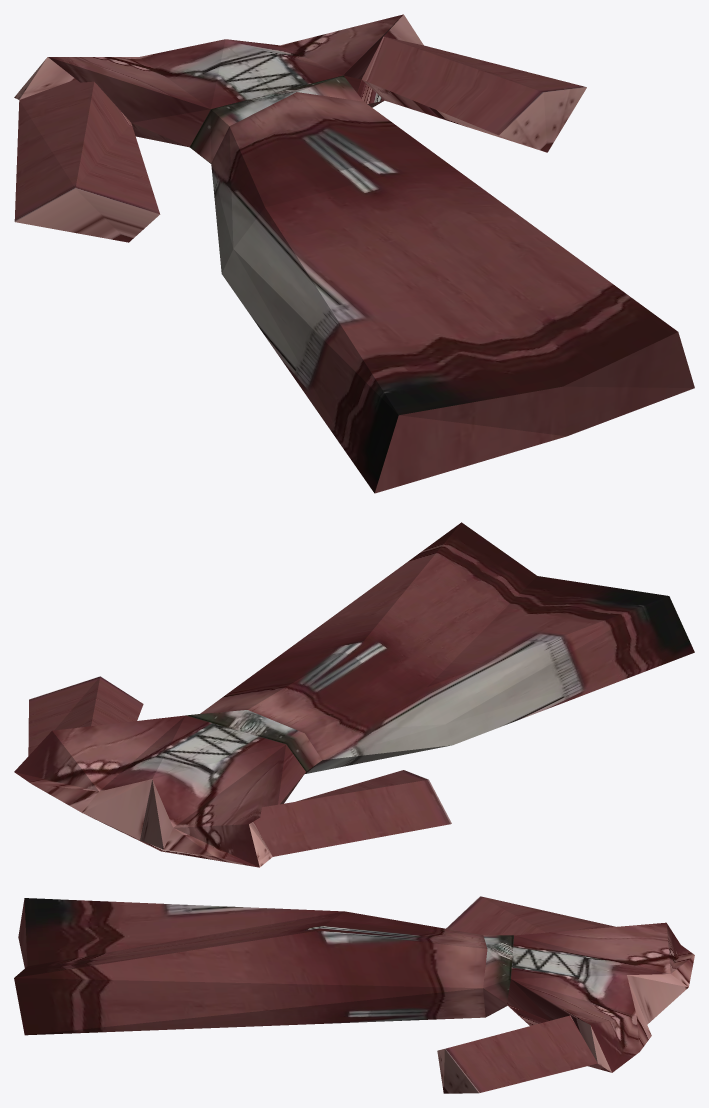
Rendered from SZYKOWNA_SUKNIA.glb.
3 renders of one model, top to bottom at view 1: azimuth 30°, elevation 25°; view 2: azimuth 150°, elevation 25°; view 3: azimuth 270°, elevation 25°, orthographic. The views are drawn at different scales.
Parts seen in each view (by area): view 1: SZYKOWNA_SUKNIA; view 2: SZYKOWNA_SUKNIA; view 3: SZYKOWNA_SUKNIA.
Part boxes in pixels (x1,y1,x2,y2): SZYKOWNA_SUKNIA: (14, 14, 694, 493); SZYKOWNA_SUKNIA: (14, 522, 694, 867); SZYKOWNA_SUKNIA: (14, 896, 694, 1093).
Bounding box in the file's own units: 0.6414 × 0.1382 × 0.94.
1 material, 1 textured.
